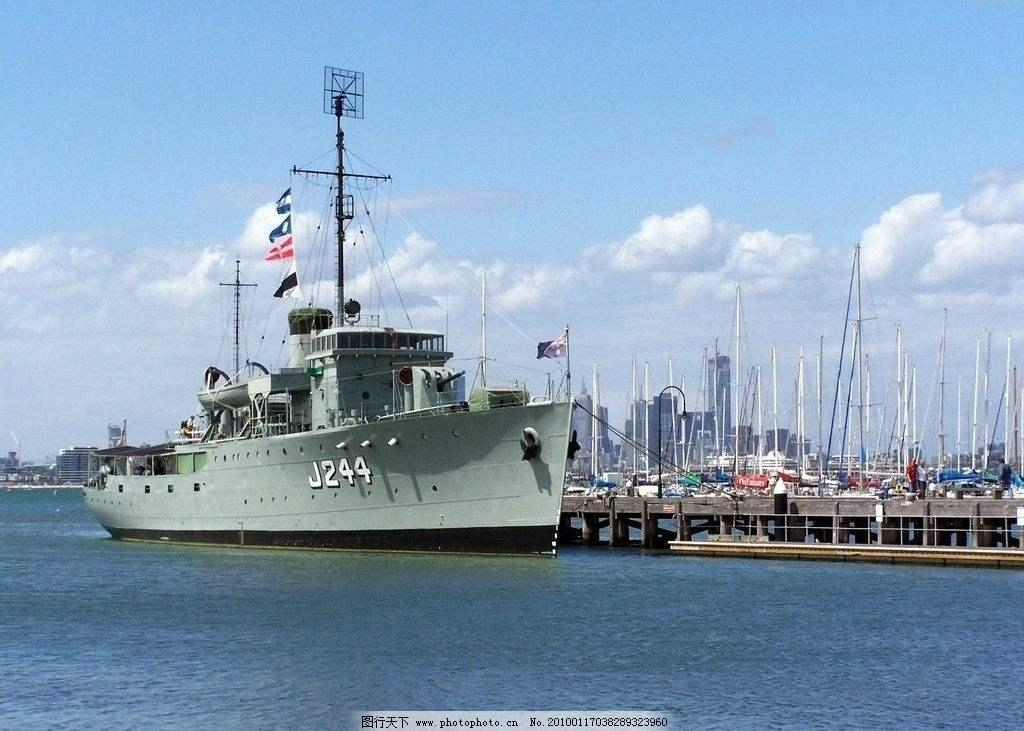warship: (63, 70, 625, 555)
